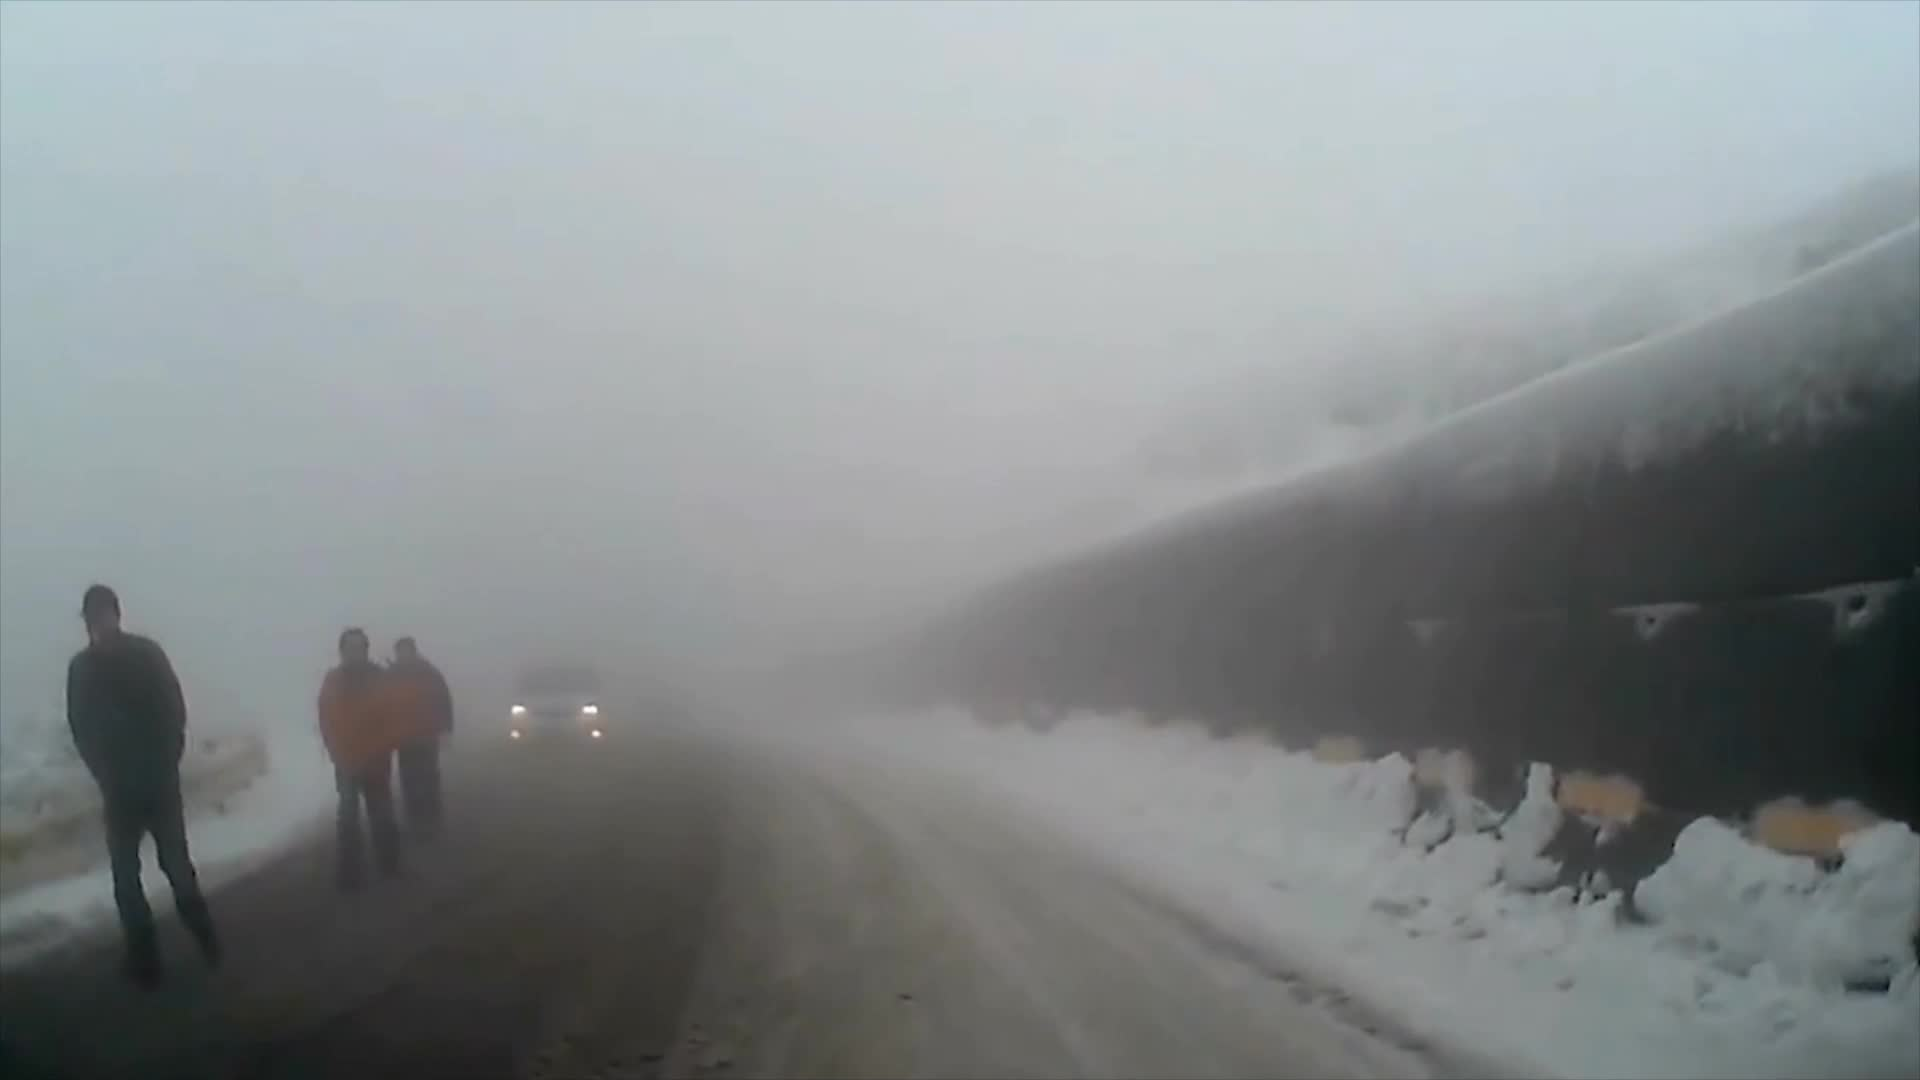pedestrian: (59, 586, 225, 981), (308, 621, 407, 885), (381, 636, 459, 851)
vehicle: (503, 667, 606, 763), (502, 662, 605, 758)
